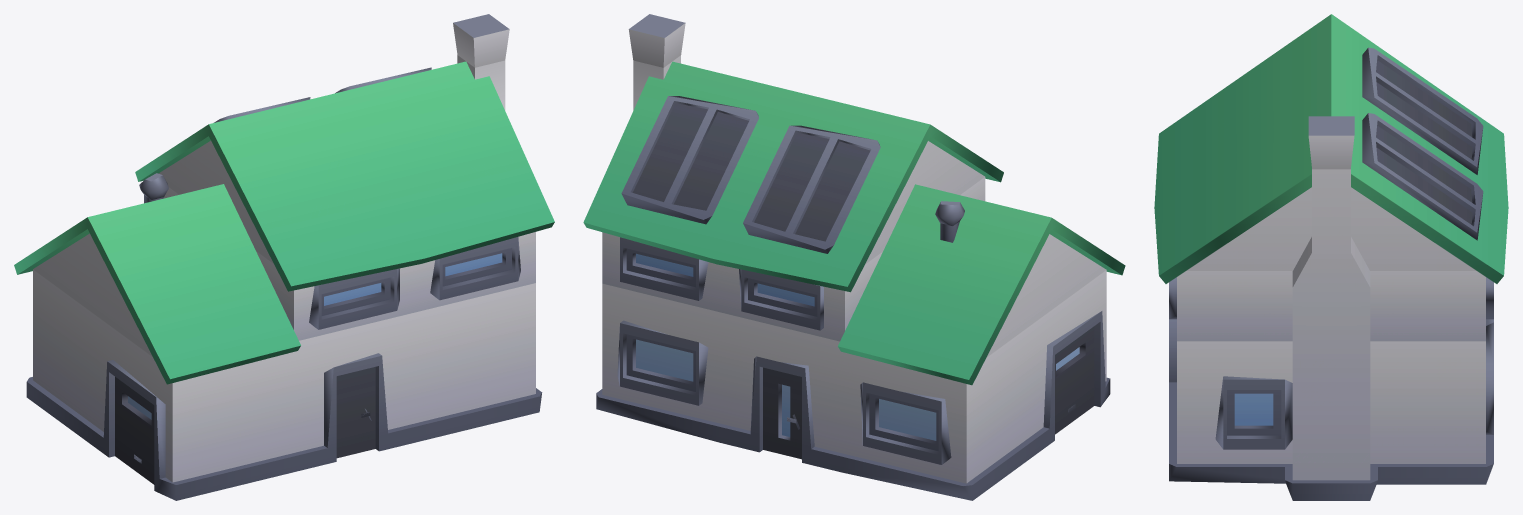
Rendered from 063_city-kit-suburban_building-type-j_card.glb.
3 renders of one model, left to right at view 1: azimuth 30°, elevation 25°; view 2: azimuth 150°, elevation 25°; view 3: azimuth 270°, elevation 25°, orthographic. The views are drawn at different scales.
Visible parts, largest first — view 1: building-type-j; view 2: building-type-j; view 3: building-type-j.
Boxes of the visible parts, box(x1,y1,x2,y2) form: building-type-j: box(14, 14, 554, 500); building-type-j: box(583, 14, 1125, 500); building-type-j: box(1154, 14, 1508, 500).
Size of the model in its own units: 1.37 by 1.04 by 0.916.
Materials: 1 (1 with a texture image).
